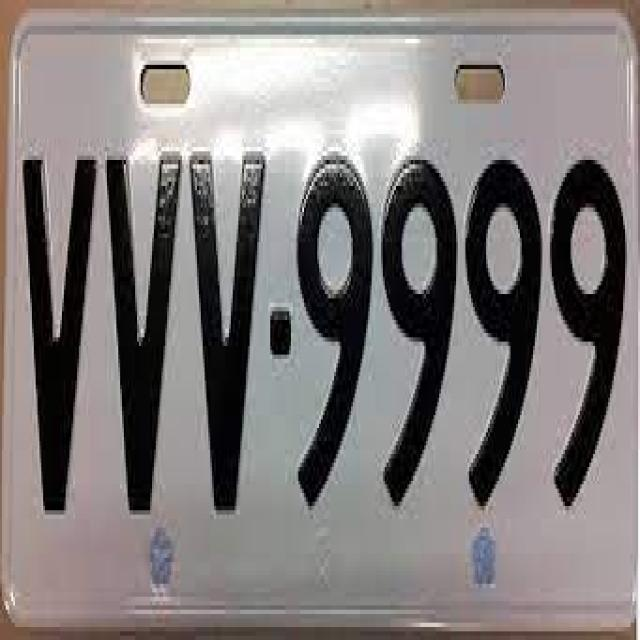license-plate: (1, 9, 639, 631)
